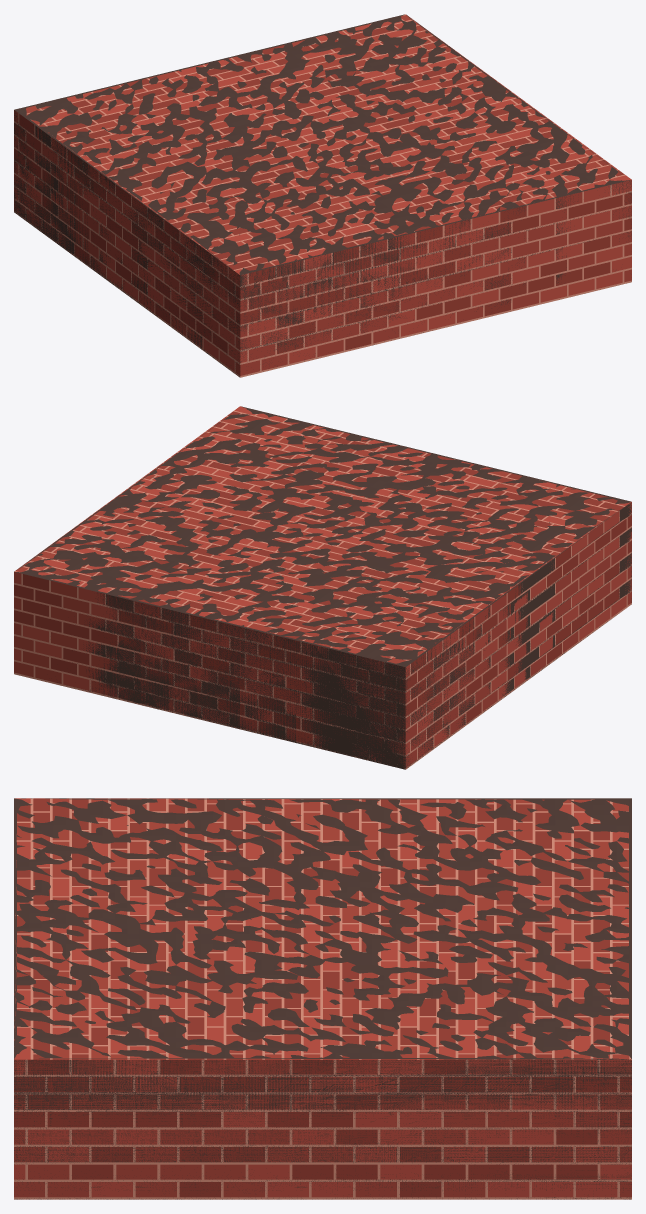
The model's file is materials.glb.
The picture shows the model from 3 angles, top to bottom: view 1: azimuth 30°, elevation 25°; view 2: azimuth 150°, elevation 25°; view 3: azimuth 270°, elevation 25°; orthographic projection. The views are drawn at different scales.
Parts seen in each view (by area): view 1: Bricks, Dirt; view 2: Bricks, Dirt; view 3: Bricks, Dirt.
Boxes of the visible parts, <box> form: Bricks: <box>14,14,631,377</box>; Dirt: <box>14,14,631,377</box>; Bricks: <box>14,406,631,769</box>; Dirt: <box>14,406,631,769</box>; Bricks: <box>14,798,631,1199</box>; Dirt: <box>14,798,631,1199</box>.
Size of the model in its own units: 20 by 5.01 by 20.
